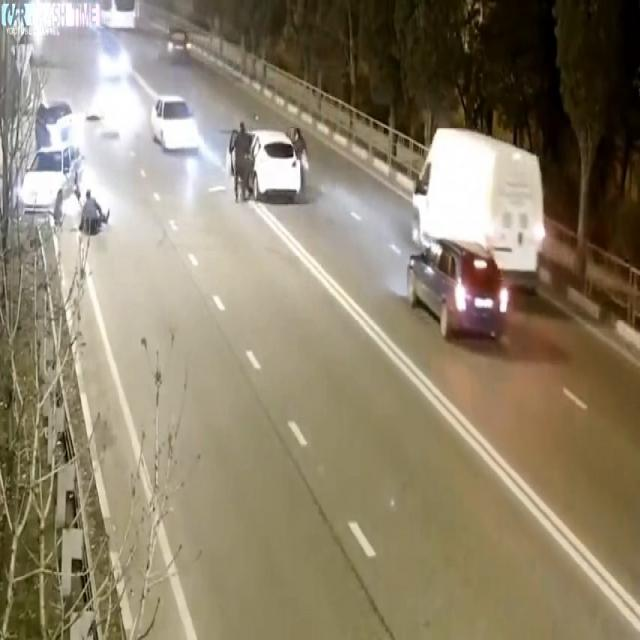Accident: (15, 81, 119, 258)
